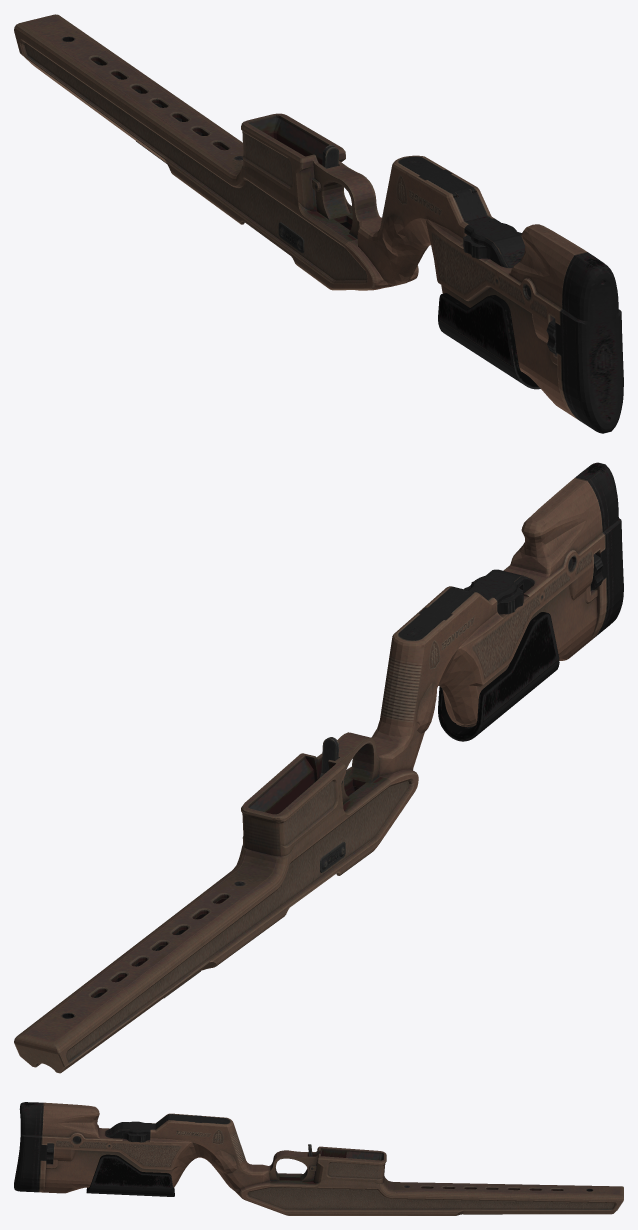
The picture shows the model from 3 angles, top to bottom: view 1: azimuth 30°, elevation 25°; view 2: azimuth 150°, elevation 25°; view 3: azimuth 270°, elevation 25°; orthographic projection. The views are drawn at different scales.
Visible parts, largest first — view 1: TW_5bae13bad4351e00320204af_PZ_Import; view 2: TW_5bae13bad4351e00320204af_PZ_Import; view 3: TW_5bae13bad4351e00320204af_PZ_Import.
Part boxes in pixels (<box>): TW_5bae13bad4351e00320204af_PZ_Import: <box>14,14,623,433</box>; TW_5bae13bad4351e00320204af_PZ_Import: <box>14,462,623,1073</box>; TW_5bae13bad4351e00320204af_PZ_Import: <box>14,1102,623,1215</box>.
Size of the model in its own units: 0.0246 by 0.4829 by 0.0937.
Materials: 1 (1 with a texture image).
